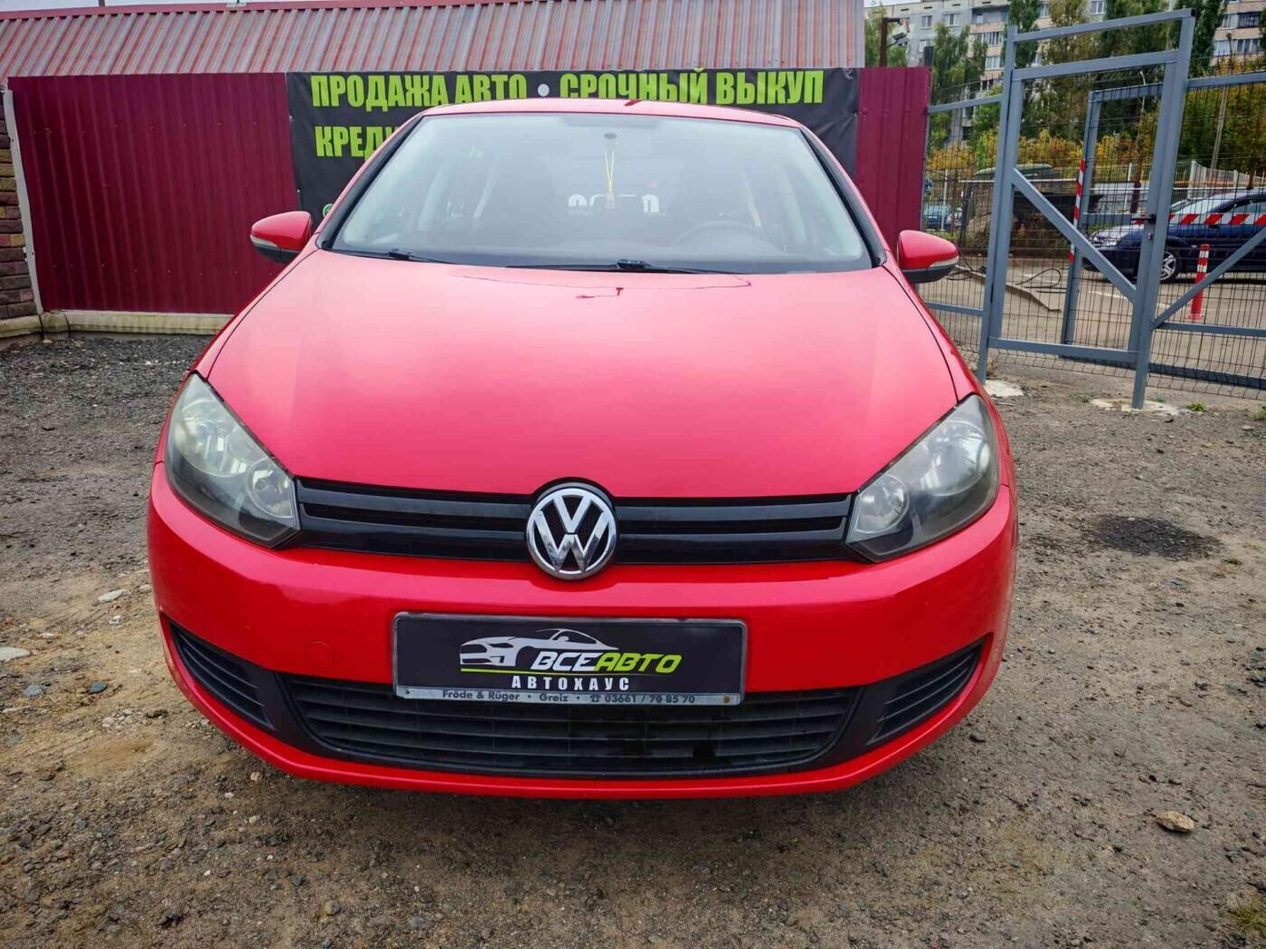Golf_2008-2013: (134, 96, 1022, 802)
